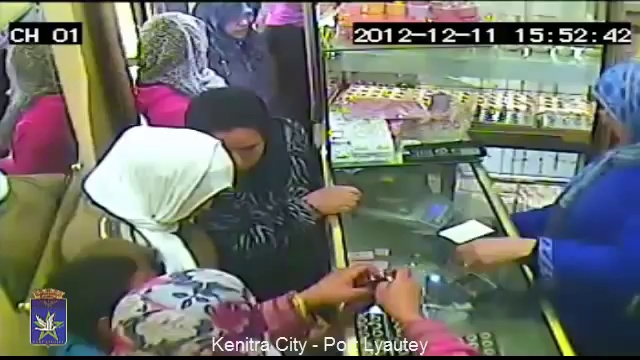face: (207, 117, 273, 172), (221, 10, 262, 39)
